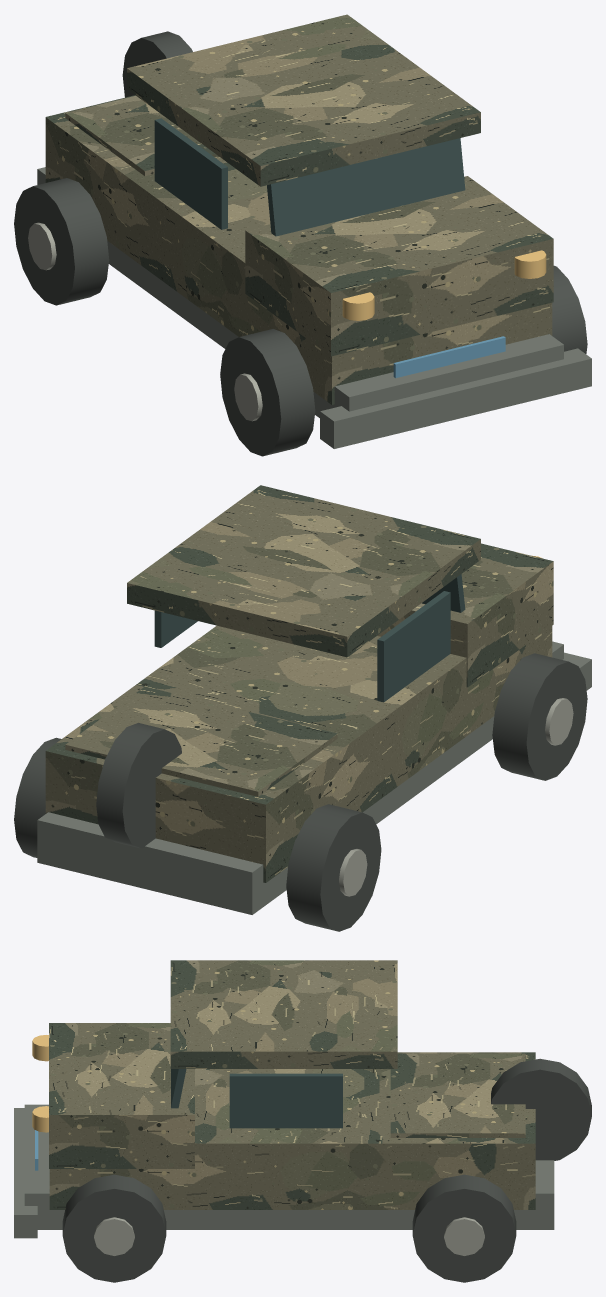
The model's file is hmmwv.glb.
The picture shows the model from 3 angles, top to bottom: view 1: azimuth 30°, elevation 25°; view 2: azimuth 150°, elevation 25°; view 3: azimuth 270°, elevation 25°; orthographic projection. The views are drawn at different scales.
Visible parts, largest first — view 1: Cab roof, Front hood, HMMWV tub armor, Utility tire (×3), Windshield glass, Front bumper, Utility ladder frame, Cab side glass, Rear utility deck, Wheel hub (×2), Faction identification plate, Rear spare tire (+1 smaller); view 2: HMMWV tub armor, Cab roof, Utility tire (×3), Utility ladder frame, Rear utility deck, Front hood, Rear spare tire, Cab side glass (×2), Wheel hub (×2), Windshield glass; view 3: HMMWV tub armor, Cab roof, Front hood, Utility tire (×2), Rear utility deck, Utility ladder frame, Rear spare tire, Cab side glass, Wheel hub (×2), Front bumper, Windshield glass.
Boxes of the visible parts, left/top/right/bottom form: Cab roof: left=127, top=14, right=480, bottom=186; Front hood: left=245, top=176, right=553, bottom=356; HMMWV tub armor: left=45, top=95, right=552, bottom=404; Utility tire (×3): left=14, top=178, right=587, bottom=456; Windshield glass: left=267, top=138, right=465, bottom=236; Front bumper: left=320, top=348, right=591, bottom=448; Utility ladder frame: left=37, top=167, right=563, bottom=417; Cab side glass: left=154, top=118, right=227, bottom=229; Rear utility deck: left=65, top=95, right=220, bottom=176; Wheel hub (×2): left=28, top=222, right=262, bottom=421; Faction identification plate: left=393, top=336, right=505, bottom=378; Rear spare tire: left=122, top=31, right=192, bottom=97; HMMWV tub armor: left=45, top=625, right=552, bottom=882; Cab roof: left=127, top=485, right=480, bottom=657; Utility tire (×3): left=14, top=653, right=587, bottom=931; Utility ladder frame: left=37, top=641, right=563, bottom=914; Rear utility deck: left=65, top=686, right=337, bottom=796; Front hood: left=377, top=543, right=553, bottom=687; Rear spare tire: left=96, top=723, right=181, bottom=848; Cab side glass (×2): left=154, top=591, right=450, bottom=702; Wheel hub (×2): left=339, top=698, right=573, bottom=896; Windshield glass: left=422, top=574, right=465, bottom=612; HMMWV tub armor: left=49, top=1052, right=535, bottom=1209; Cab roof: left=170, top=960, right=397, bottom=1068; Front hood: left=49, top=1023, right=194, bottom=1168; Utility tire (×2): left=62, top=1174, right=516, bottom=1282; Rear utility deck: left=390, top=1053, right=525, bottom=1137; Utility ladder frame: left=24, top=1104, right=554, bottom=1229; Rear spare tire: left=491, top=1058, right=591, bottom=1160; Cab side glass: left=229, top=1073, right=342, bottom=1128; Wheel hub (×2): left=94, top=1217, right=484, bottom=1255; Front bumper: left=14, top=1108, right=37, bottom=1238; Windshield glass: left=171, top=1069, right=186, bottom=1108.
Size of the model in its own units: 2.86 by 2.18 by 5.35.
7 materials, 1 textured.
